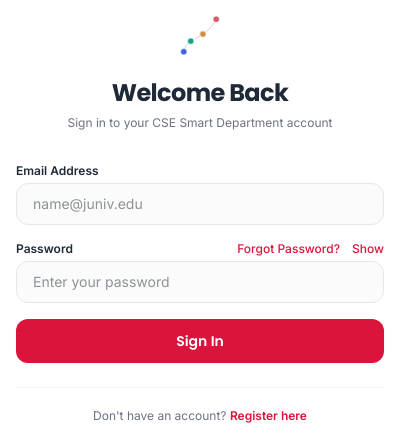
Test: LoginForm (React Testing Library Component Seam) › toggles password visibility when show/hide button is clicked
Click the button "Show" at (368,248), box 352,240 -> 384,256
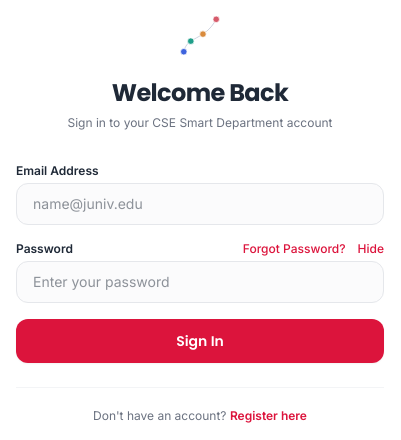
Check: the button "Hide" is shown, box 358,240 -> 384,256
